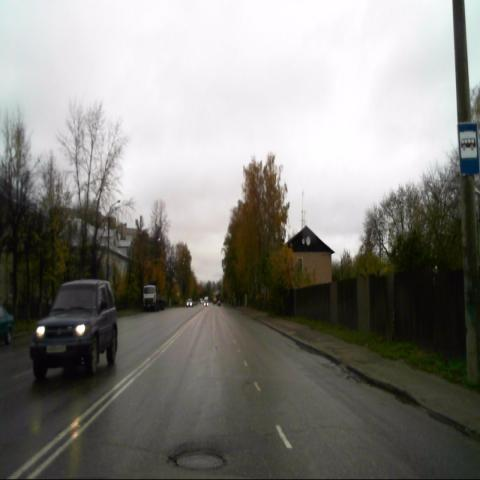5_16: (458, 124, 480, 176)
